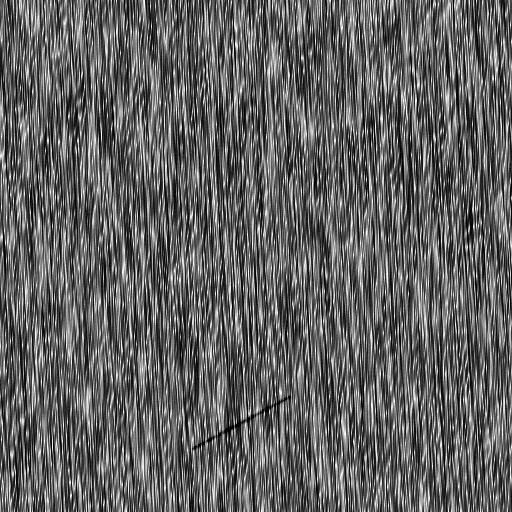DefectTypeC: (194, 394, 292, 447)
